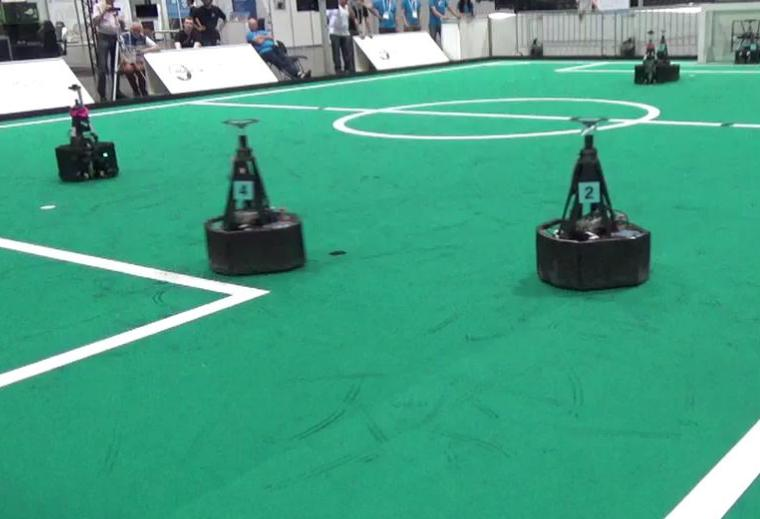robot: (532, 112, 655, 294), (198, 114, 309, 275), (50, 80, 121, 185)
